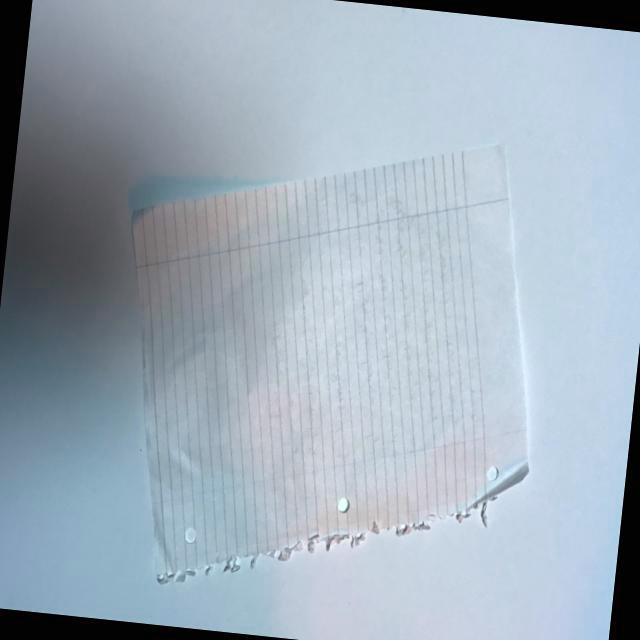paper: (93, 100, 569, 624)
